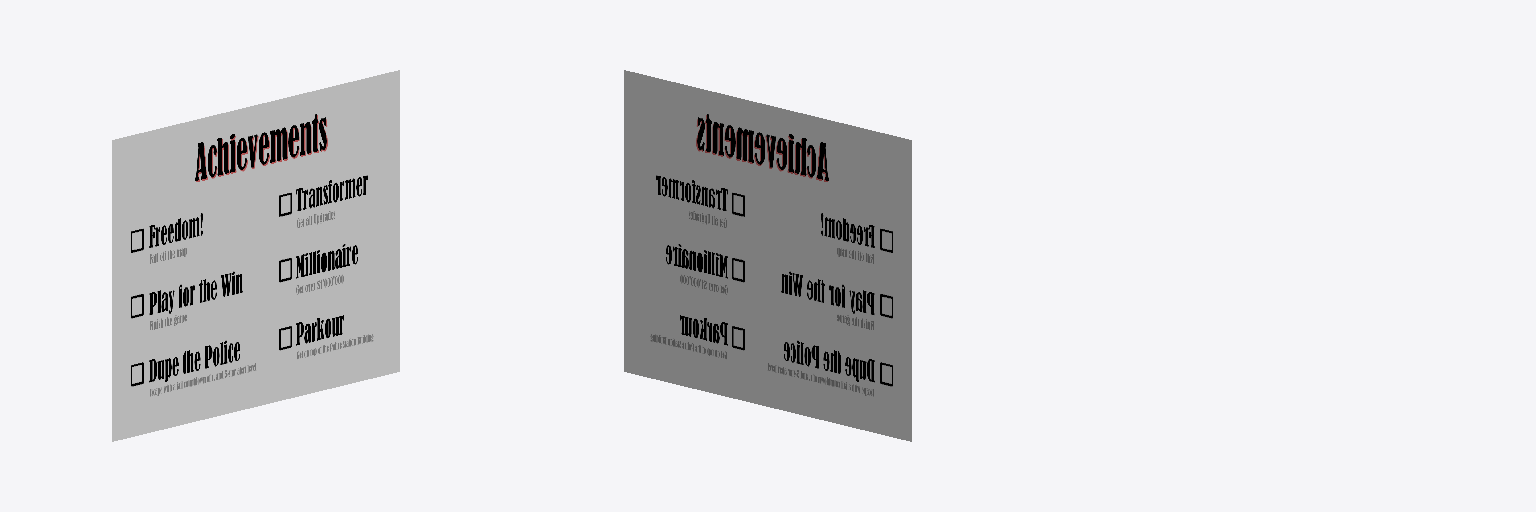
3 renders of one model, left to right at view 1: azimuth 30°, elevation 25°; view 2: azimuth 150°, elevation 25°; view 3: azimuth 270°, elevation 25°, orthographic.
Visible parts, largest first — view 1: Plane; view 2: Plane; view 3: none.
Part boxes in pixels (x1,y1,x2,y2): Plane: (112,70,399,441); Plane: (624,70,911,441).
Bounding box in the file's own units: 2 × 2 × 0.
Materials: 1 (1 with a texture image).